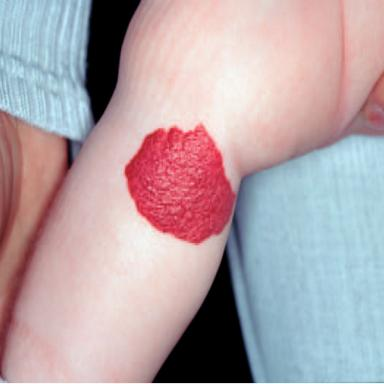Hemangiome: (125, 124, 235, 243)
